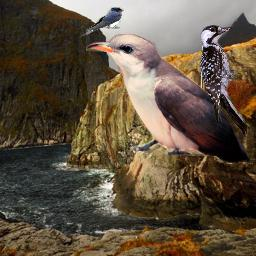Cuckoo: (86, 34, 254, 164)
Swallow: (81, 7, 124, 37)
Woodpecker: (199, 25, 247, 137)
